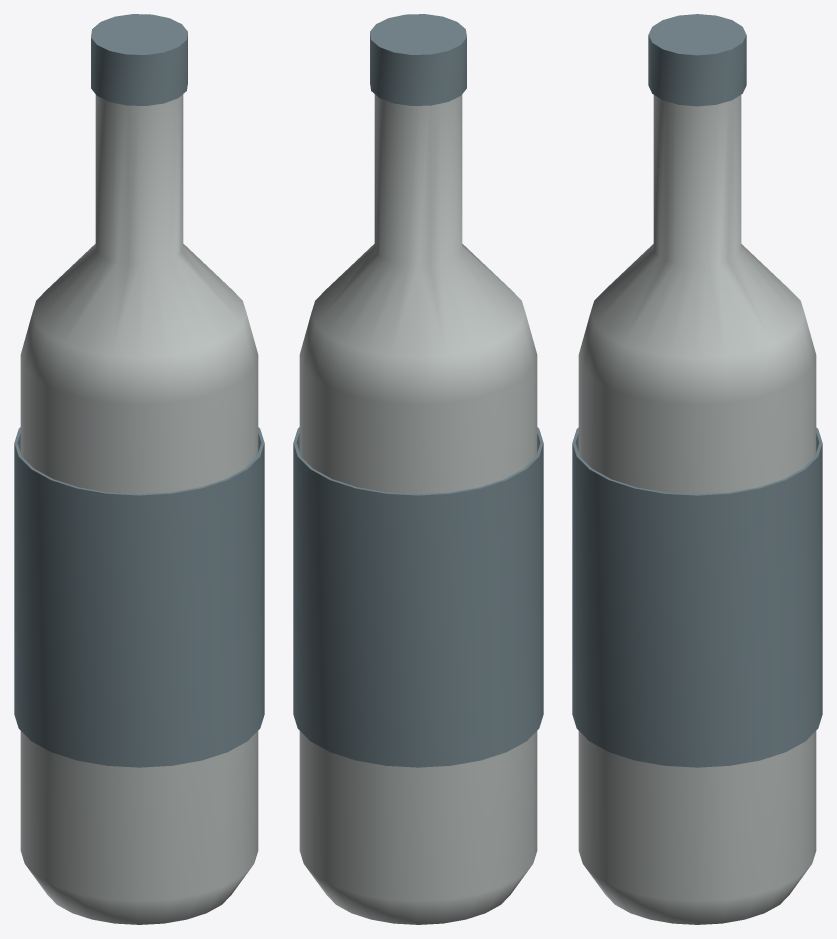
File: wine-bottle.glb
3 renders of one model, left to right at view 1: azimuth 30°, elevation 25°; view 2: azimuth 150°, elevation 25°; view 3: azimuth 270°, elevation 25°, orthographic.
Visible parts, largest first — view 1: bottle_body, raised_label, closure; view 2: bottle_body, raised_label, closure; view 3: bottle_body, raised_label, closure.
Part boxes in pixels (x1=…): bottle_body: x1=20, y1=94, x2=258, y2=924; raised_label: x1=14, y1=427, x2=264, y2=767; closure: x1=91, y1=14, x2=187, y2=105; bottle_body: x1=299, y1=94, x2=537, y2=924; raised_label: x1=293, y1=427, x2=543, y2=767; closure: x1=370, y1=14, x2=466, y2=105; bottle_body: x1=578, y1=95, x2=816, y2=924; raised_label: x1=572, y1=427, x2=822, y2=767; closure: x1=648, y1=14, x2=746, y2=106.
Size of the model in its own units: 0.08 by 0.3 by 0.08.
